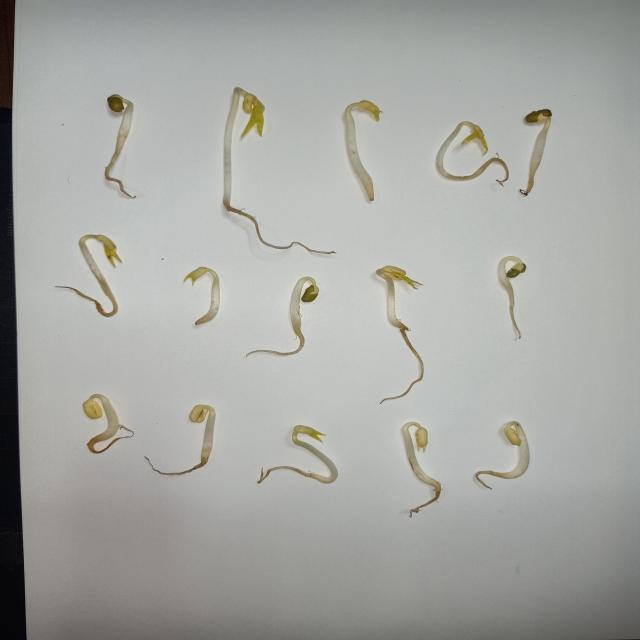leaf: (379, 266, 423, 289), (99, 235, 119, 267), (293, 424, 327, 442), (518, 104, 552, 122), (408, 423, 428, 452), (503, 421, 524, 445), (465, 127, 484, 153), (359, 100, 380, 122), (184, 268, 208, 286), (85, 401, 105, 421), (188, 405, 209, 424), (107, 95, 125, 113), (508, 261, 526, 278), (304, 285, 320, 302)
root: (221, 204, 339, 257), (367, 325, 434, 405), (242, 325, 322, 359), (102, 147, 141, 202), (67, 290, 122, 319), (146, 456, 214, 479), (252, 464, 311, 482), (78, 437, 133, 455), (414, 478, 442, 512), (484, 157, 511, 189), (507, 294, 521, 346), (522, 163, 537, 194), (475, 472, 497, 490), (363, 186, 375, 208), (187, 320, 205, 329)
stem: (219, 86, 249, 206), (435, 122, 482, 178), (344, 104, 373, 185), (291, 429, 336, 480), (78, 237, 112, 289), (497, 420, 526, 478), (110, 95, 137, 147), (492, 254, 527, 294), (403, 424, 430, 475), (375, 268, 398, 325), (87, 396, 117, 436), (530, 110, 552, 164), (291, 276, 314, 322), (202, 270, 220, 321), (202, 405, 215, 455)
